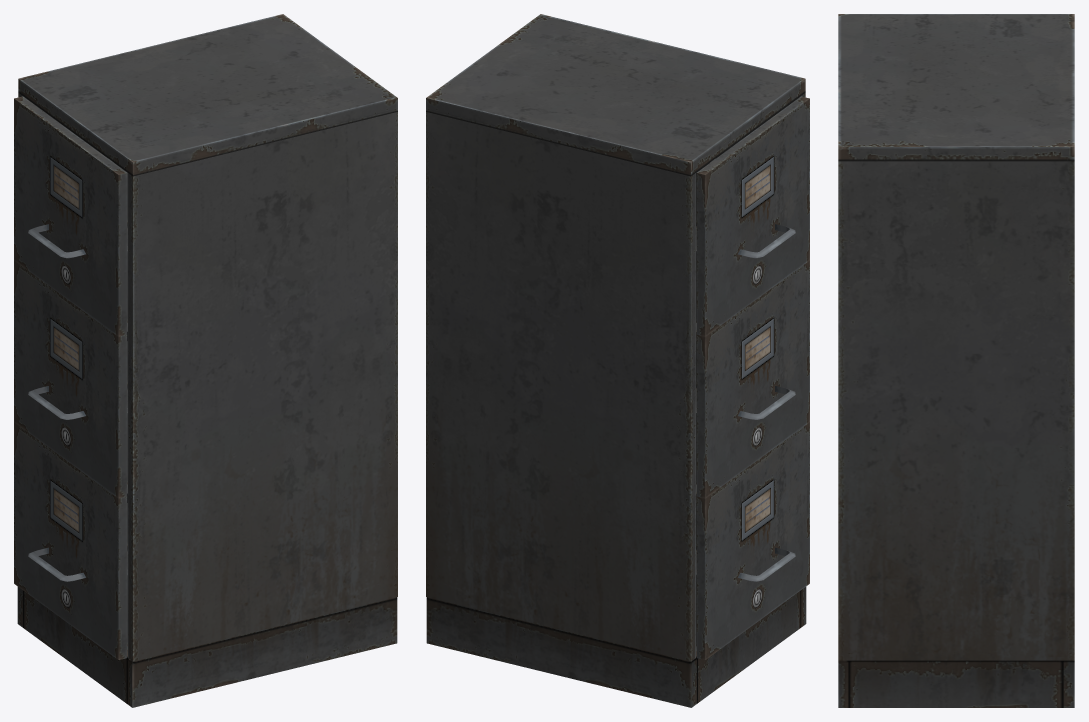
Rendered from filingCabinet01.FBX.
The picture shows the model from 3 angles, left to right: view 1: azimuth 30°, elevation 25°; view 2: azimuth 150°, elevation 25°; view 3: azimuth 270°, elevation 25°; orthographic projection. The views are drawn at different scales.
Parts seen in each view (by area): view 1: filingCabinet01, filingCabinet01_drawer03, filingCabinet01_drawer02, filingCabinet01_drawer01; view 2: filingCabinet01, filingCabinet01_drawer03, filingCabinet01_drawer02, filingCabinet01_drawer01; view 3: filingCabinet01.
Part boxes in pixels (x1=…): filingCabinet01: x1=17, y1=14, x2=397, y2=707; filingCabinet01_drawer03: x1=14, y1=96, x2=127, y2=336; filingCabinet01_drawer02: x1=14, y1=260, x2=127, y2=498; filingCabinet01_drawer01: x1=14, y1=422, x2=127, y2=659; filingCabinet01: x1=426, y1=14, x2=806, y2=707; filingCabinet01_drawer03: x1=696, y1=96, x2=809, y2=336; filingCabinet01_drawer02: x1=696, y1=260, x2=809, y2=498; filingCabinet01_drawer01: x1=696, y1=422, x2=809, y2=659; filingCabinet01: x1=838, y1=14, x2=1074, y2=707.
Size of the model in its own units: 67.08 by 118 by 45.
